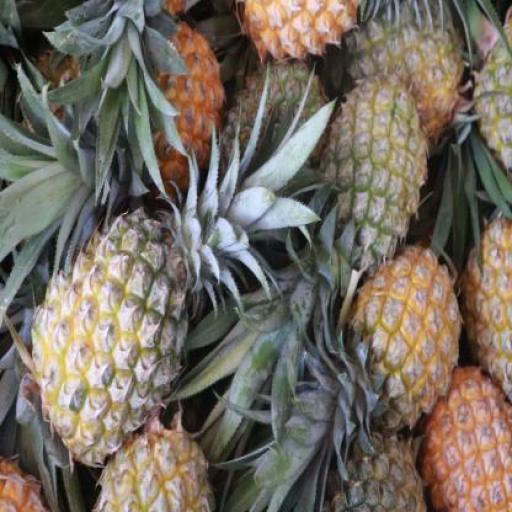------------------------------: (34, 219, 186, 467), (324, 83, 424, 278), (346, 2, 464, 144), (97, 408, 218, 510)
Pineapple - v8 v1: (354, 247, 461, 430), (423, 364, 511, 511)
